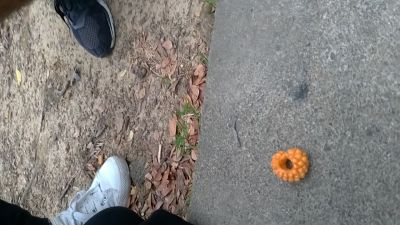eggs: (269, 146, 314, 183)
